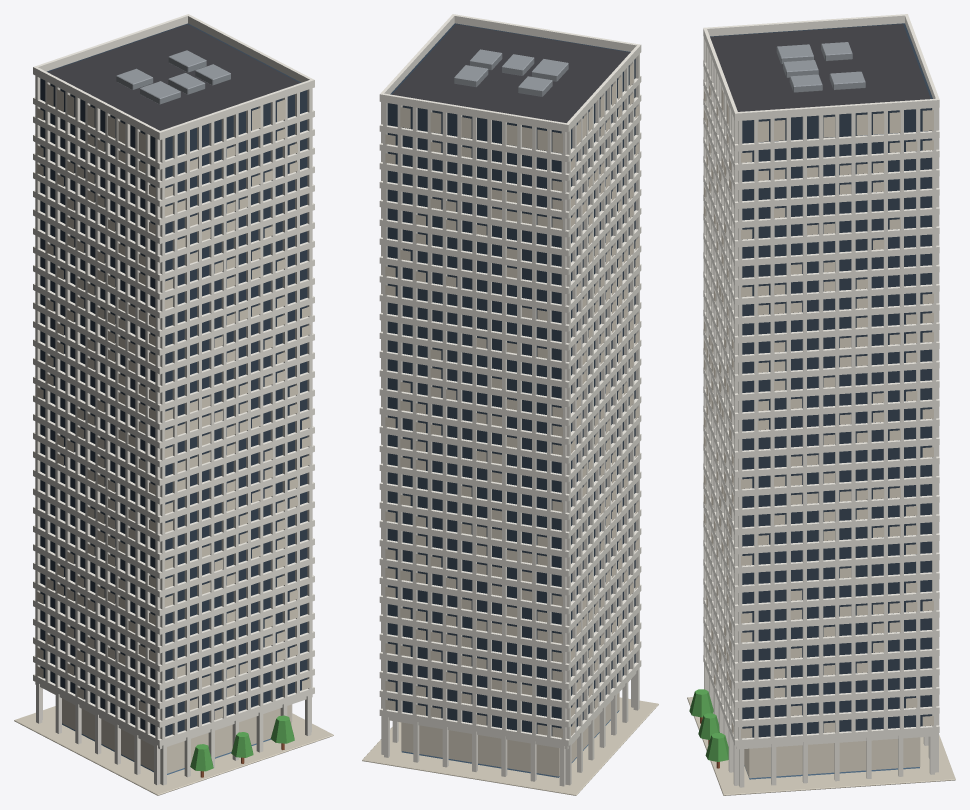
File: 650-california-street.glb
The picture shows the model from 3 angles, left to right: view 1: azimuth 30°, elevation 25°; view 2: azimuth 150°, elevation 25°; view 3: azimuth 270°, elevation 25°; orthographic projection. The views are drawn at different scales.
Parts seen in each view (by area): view 1: 650-california-street_body, 650-california-street_night_glow; view 2: 650-california-street_body, 650-california-street_night_glow; view 3: 650-california-street_body, 650-california-street_night_glow.
Boxes of the visible parts, x1,y1,x2,y2 form: 650-california-street_body: (14,14,333,795); 650-california-street_night_glow: (36,84,310,773); 650-california-street_body: (362,14,658,795); 650-california-street_night_glow: (385,63,639,776); 650-california-street_body: (687,14,955,795); 650-california-street_night_glow: (703,85,933,778).
Size of the model in its own units: 51.06 by 142 by 51.21.
